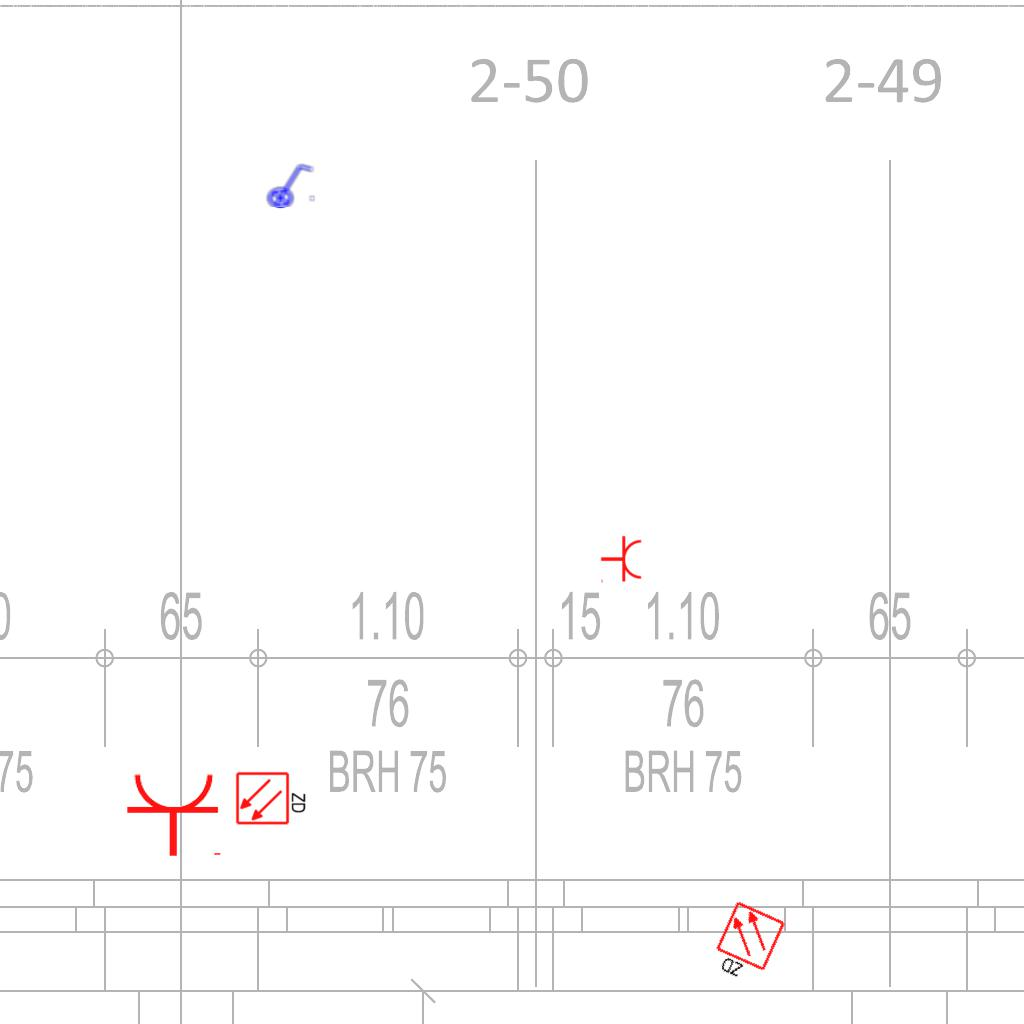Ausschalter_beleuchtet: (261, 161, 317, 209)
Schukosteckdose_einfach: (125, 771, 225, 858), (600, 535, 643, 585)
ZD_Melder_in_Zwischendecke_mit_Revisionsoeffnung_mind_40_x_40_cm: (706, 899, 789, 991), (235, 769, 309, 826)
